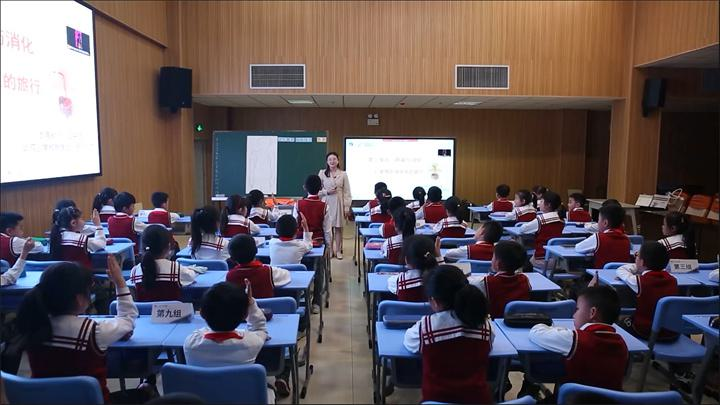hands-up: (32, 248, 134, 368), (545, 267, 616, 372), (196, 272, 264, 380), (53, 204, 108, 261), (271, 206, 317, 264), (394, 234, 448, 282), (245, 184, 279, 224)
listen: (414, 267, 494, 373), (624, 243, 678, 315), (224, 235, 286, 295), (130, 223, 188, 286), (490, 248, 539, 317), (187, 206, 224, 260), (659, 207, 694, 254), (591, 205, 623, 250), (217, 195, 249, 235), (393, 211, 425, 250), (107, 190, 138, 228), (536, 194, 565, 234), (472, 220, 505, 250), (385, 196, 410, 234), (440, 195, 466, 230), (566, 186, 590, 221), (421, 186, 444, 211)
stand: (300, 174, 333, 254)
